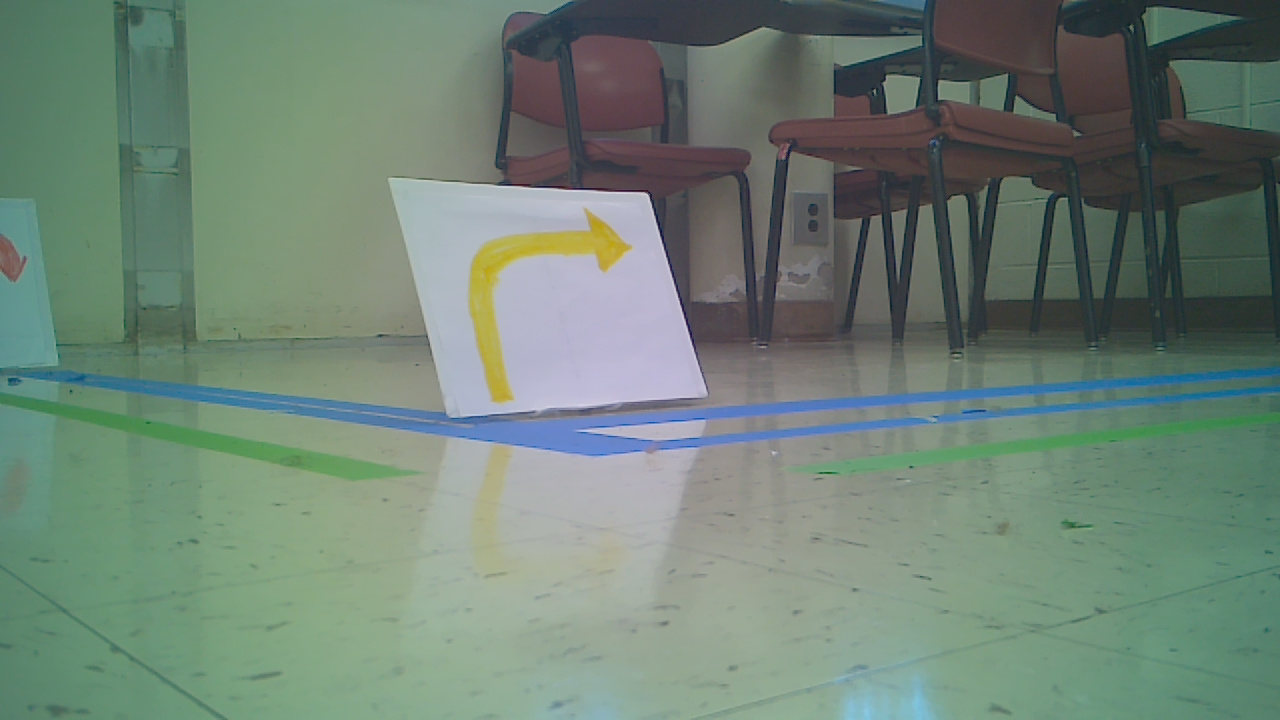greenline: (4, 392, 409, 487)
right: (468, 206, 635, 412)
